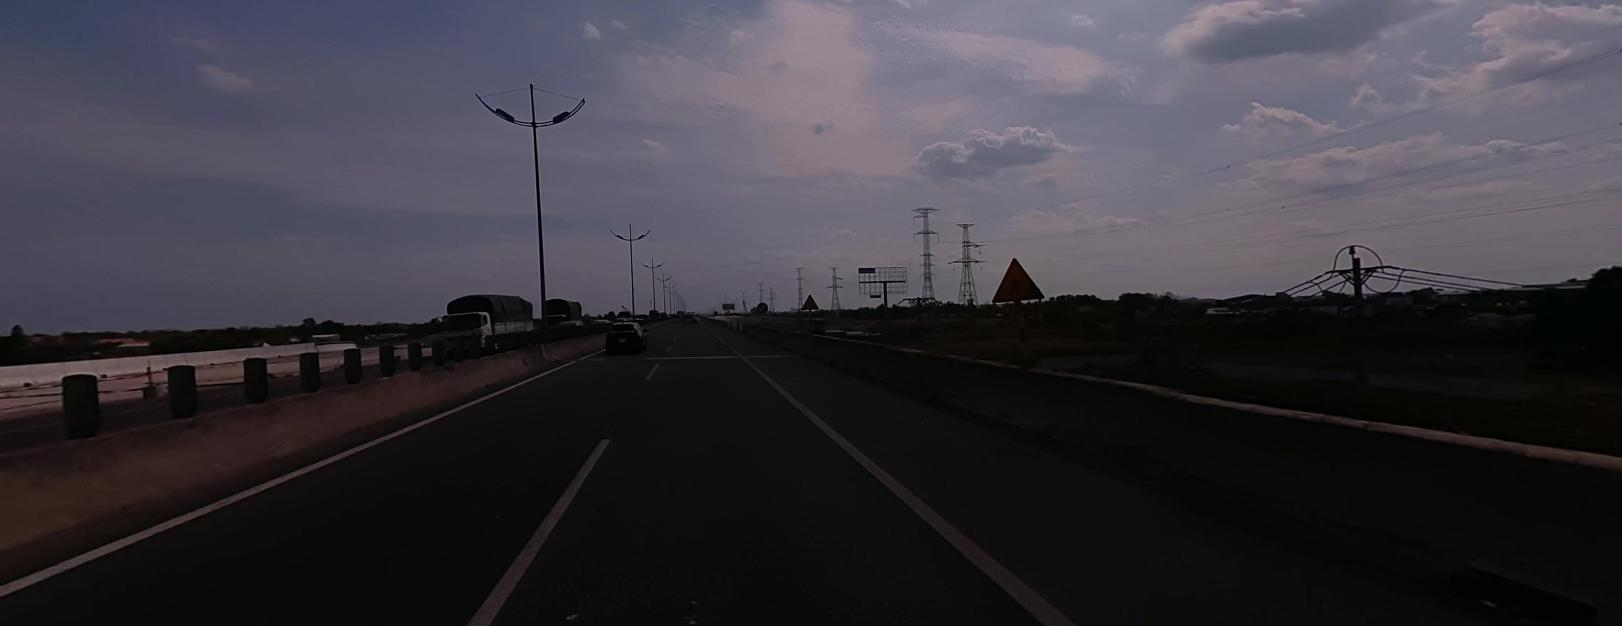Hieu lenh: (757, 301, 767, 312)
Nguy hiem: (991, 255, 1046, 301), (800, 291, 819, 308)
